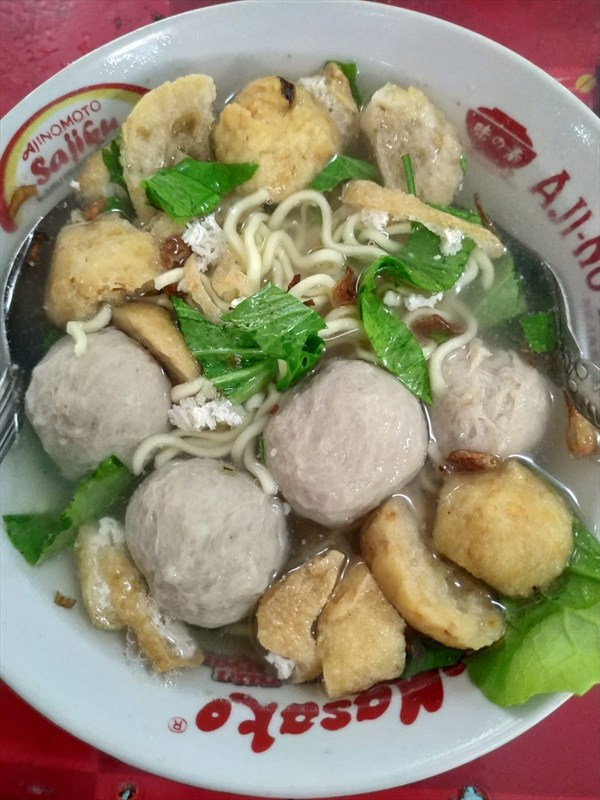Bakso: (69, 125, 497, 761)
